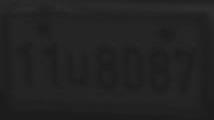0: (120, 47, 146, 90)
1: (14, 41, 39, 88), (40, 40, 62, 90)
7: (174, 48, 198, 95)
8: (147, 48, 173, 96), (95, 45, 119, 89)
나: (65, 48, 92, 89)
